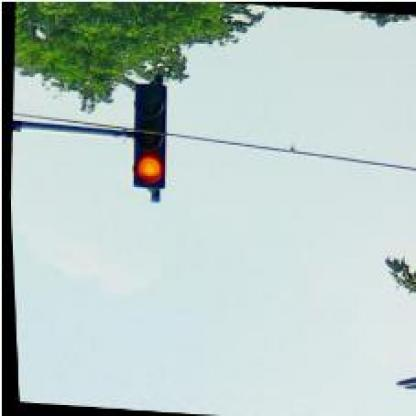red: (126, 82, 168, 189)
